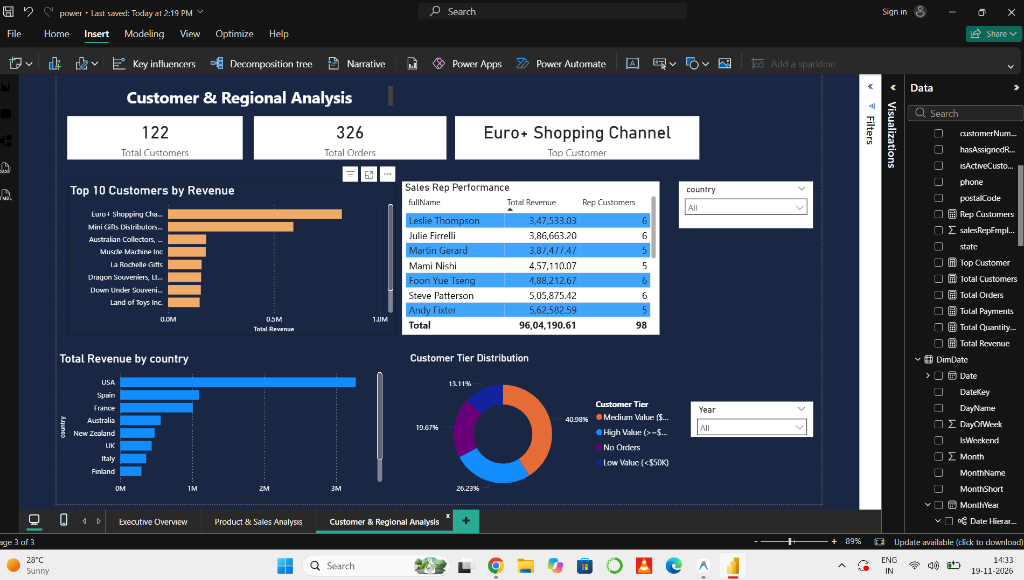

The page's visual inventory and layout, read from the dashboard file:
{"tool":"powerbi","page":{"name":"Customer & Regional Analysis","canvas":[1280,720],"ordinal":2},"visuals":[{"type":"card","fields":{"Values":["DimCustomer.Total Customers"]},"box":[17.8,70,293.7,72.7],"z":0},{"type":"card","fields":{"Values":["DimCustomer.Total Orders"]},"box":[330.7,70,322.5,72.7],"z":1},{"type":"card","fields":{"Values":["DimCustomer.Top Customer"]},"box":[666.9,70,408.9,72.7],"z":2},{"type":"clusteredBarChart","title":"Top 10 Customers by Revenue","fields":{"Category":["DimCustomer.customerName"],"Y":["DimCustomer.Total Revenue"]},"box":[17.8,181.1,550.3,256.6],"z":3},{"type":"tableEx","title":"Sales Rep Performance","fields":{"Values":["DimEmployee.fullName","DimCustomer.Total Revenue","DimCustomer.Rep Customers"]},"box":[577.7,179.8,430.9,256.6],"z":4},{"type":"clusteredBarChart","fields":{"Category":["DimCustomer.country"],"Y":["DimCustomer.Total Revenue"]},"box":[0,463.8,550.3,256.6],"z":5},{"type":"slicer","fields":{"Values":["DimCustomer.country"]},"box":[1041.5,179.8,225,78.2],"z":6},{"type":"donutChart","title":"Customer Tier Distribution","fields":{"Category":["DimCustomer.Customer Tier"],"Y":["DimCustomer.Total Customers"]},"box":[587.3,463.8,454.2,256.6],"z":7},{"type":"slicer","fields":{"Values":["DimDate.MonthYear.Variation.Date Hierarchy.Year"]},"box":[1062.1,547.5,204.5,59],"z":8},{"type":"textbox","box":[52.1,15.1,516,43.9],"z":10}]}

Visuals, with their boxes on the page's 1280x720 design canvas (x1, y1, x2, y2). These are canvas units, not pixel positions in the 1024x580 screenshot, which may show the page scaled, cropped or inside an application window:
card - DimCustomer.Total Customers: left=18, top=70, right=312, bottom=143
card - DimCustomer.Total Orders: left=331, top=70, right=653, bottom=143
card - DimCustomer.Top Customer: left=667, top=70, right=1076, bottom=143
"Top 10 Customers by Revenue" clusteredBarChart: left=18, top=181, right=568, bottom=438
"Sales Rep Performance" tableEx: left=578, top=180, right=1009, bottom=436
clusteredBarChart - DimCustomer.country x DimCustomer.Total Revenue: left=0, top=464, right=550, bottom=720
slicer - DimCustomer.country: left=1042, top=180, right=1266, bottom=258
"Customer Tier Distribution" donutChart: left=587, top=464, right=1042, bottom=720
slicer - DimDate.MonthYear.Variation.Date Hierarchy.Year: left=1062, top=548, right=1267, bottom=606
textbox: left=52, top=15, right=568, bottom=59
